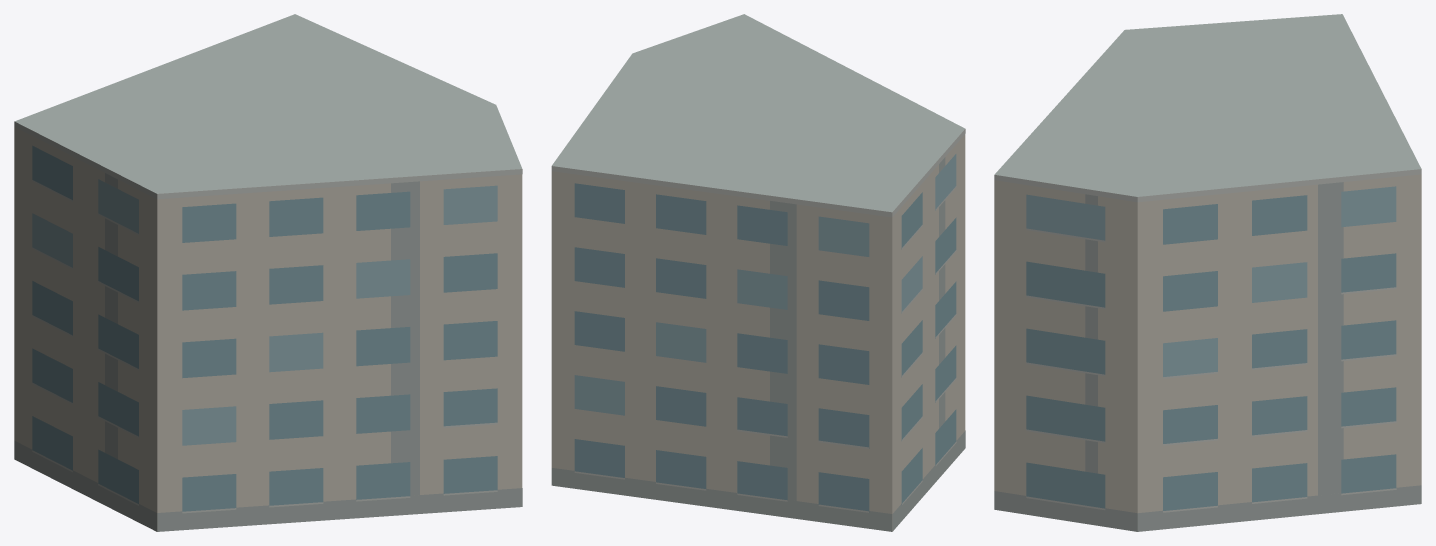
File: residential-ae505120-59ab-445f-b9ec-38a79d0493cf.glb
3 views of the same model, side by side, from view 1: azimuth 30°, elevation 25°; view 2: azimuth 150°, elevation 25°; view 3: azimuth 270°, elevation 25° (orthographic). The views are drawn at different scales.
Parts seen in each view (by area): view 1: residential-ae505120-59ab-445f-b9ec-38a79d0493cf.tmp; view 2: residential-ae505120-59ab-445f-b9ec-38a79d0493cf.tmp; view 3: residential-ae505120-59ab-445f-b9ec-38a79d0493cf.tmp.
Part boxes in pixels (<box>): residential-ae505120-59ab-445f-b9ec-38a79d0493cf.tmp: <box>14,14,522,531</box>; residential-ae505120-59ab-445f-b9ec-38a79d0493cf.tmp: <box>551,14,965,531</box>; residential-ae505120-59ab-445f-b9ec-38a79d0493cf.tmp: <box>994,14,1421,531</box>.
Size of the model in its own units: 17.88 by 15.25 by 17.64.
